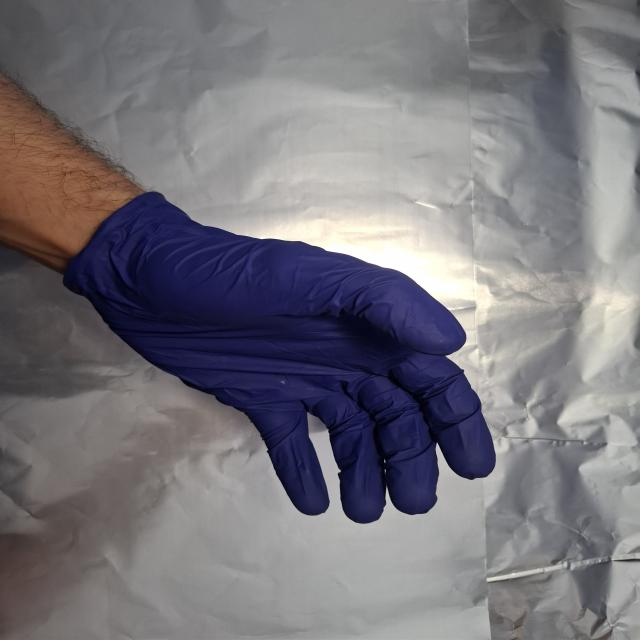glove_on: (68, 190, 500, 526)
